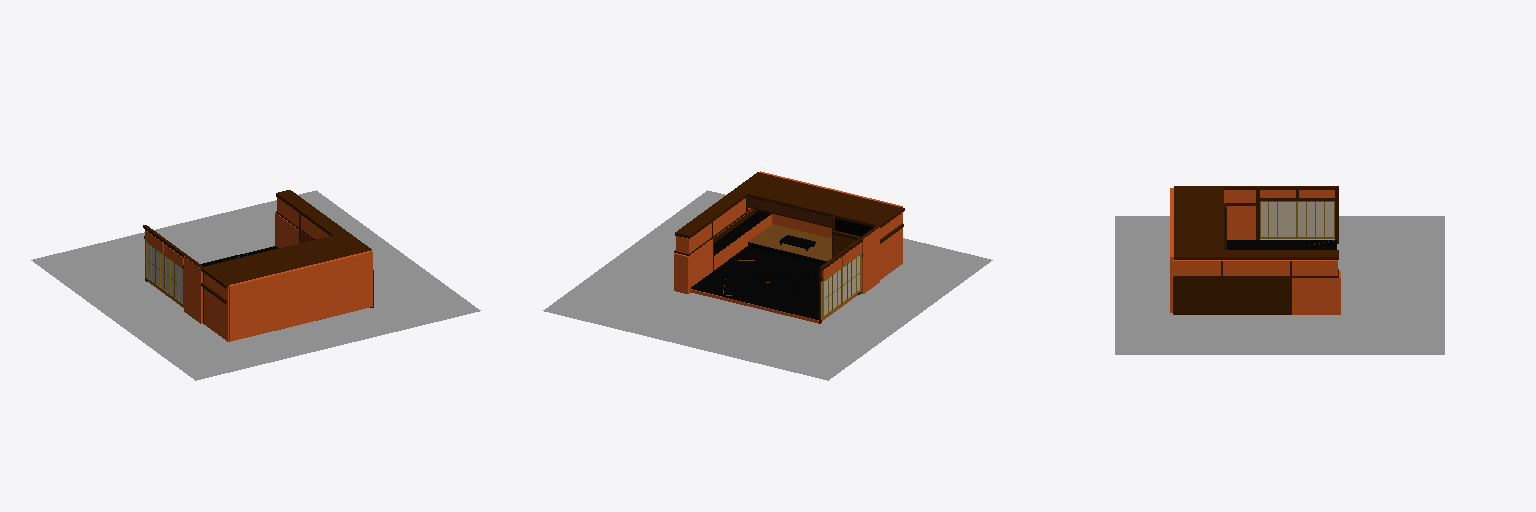
File: room001.obj
The picture shows the model from 3 angles: view 1: azimuth 30°, elevation 25°; view 2: azimuth 150°, elevation 25°; view 3: azimuth 270°, elevation 25°; orthographic projection.
Parts seen in each view (by area): view 1: Plane, Cube.004_Cube.005, Cube.014, Cube.044_Cube.047, Cube.010, Cube.020_Cube.021, Cube.022_Cube.024, Cube.011, Cube.016_Cube.017; view 2: Plane, Cube.014, Cube.001_Cube.002, Cube.044_Cube.047, Cube.016_Cube.017, Cube.010, Cube.004_Cube.005, Cube.053, Cube.051, Cube.020_Cube.021, Cube.011, Cube.056 (+7 smaller); view 3: Plane, Cube.028_Cube.030, Cube.014, Cube.044_Cube.047, Cube.011, Cube.016_Cube.017, Cube.010, Cube.022_Cube.024, Cube.052.
Boxes of the visible parts, x1,y1,x2,y2 form: Plane: [31, 190, 480, 380]; Cube.004_Cube.005: [148, 250, 372, 341]; Cube.014: [205, 235, 357, 284]; Cube.044_Cube.047: [145, 241, 183, 306]; Cube.010: [276, 190, 371, 253]; Cube.020_Cube.021: [204, 273, 229, 341]; Cube.022_Cube.024: [184, 256, 202, 323]; Cube.011: [277, 197, 329, 238]; Cube.016_Cube.017: [275, 212, 298, 247]; Plane: [543, 190, 992, 380]; Cube.014: [747, 176, 900, 227]; Cube.001_Cube.002: [748, 224, 831, 263]; Cube.044_Cube.047: [821, 253, 861, 319]; Cube.016_Cube.017: [674, 239, 712, 293]; Cube.010: [675, 172, 771, 238]; Cube.004_Cube.005: [690, 171, 902, 323]; Cube.053: [723, 282, 804, 312]; Cube.051: [691, 261, 759, 296]; Cube.020_Cube.021: [880, 212, 902, 279]; Cube.011: [676, 198, 752, 253]; Cube.056: [728, 246, 811, 269]; Plane: [1115, 216, 1444, 354]; Cube.028_Cube.030: [1173, 277, 1289, 314]; Cube.014: [1174, 187, 1223, 250]; Cube.044_Cube.047: [1260, 201, 1334, 238]; Cube.011: [1173, 260, 1337, 276]; Cube.016_Cube.017: [1292, 271, 1340, 314]; Cube.010: [1174, 250, 1338, 259]; Cube.022_Cube.024: [1224, 190, 1255, 239]; Cube.052: [1263, 240, 1336, 249].
Bounding box in the file's own units: 40 × 7.91 × 40.